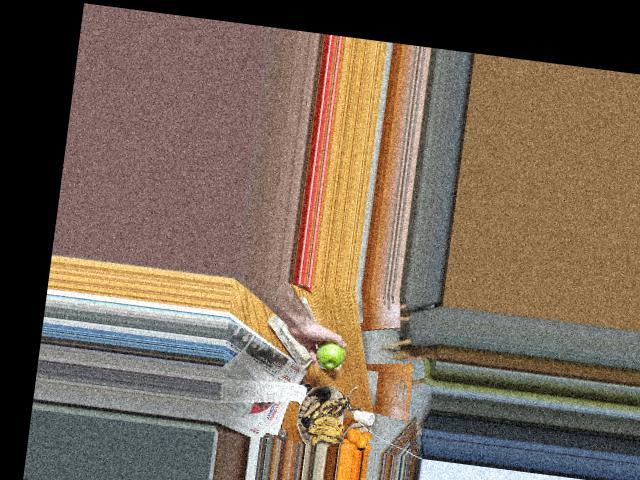apple: (312, 335, 348, 368)
